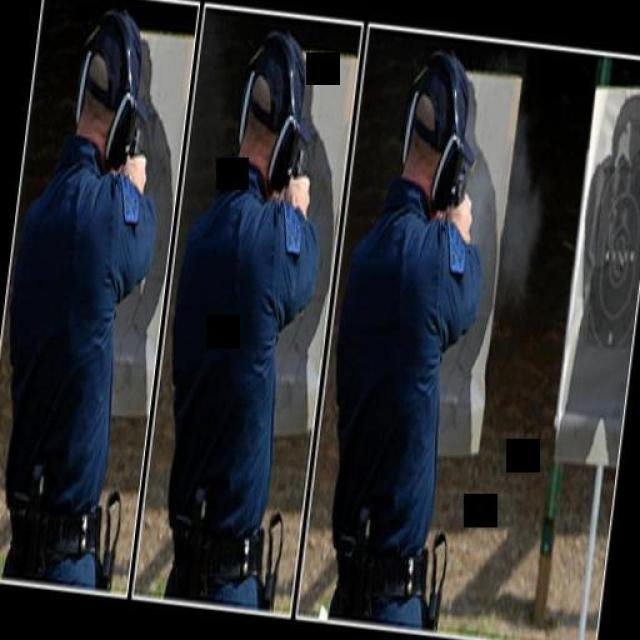gun: (288, 131, 308, 181), (125, 118, 143, 158)
